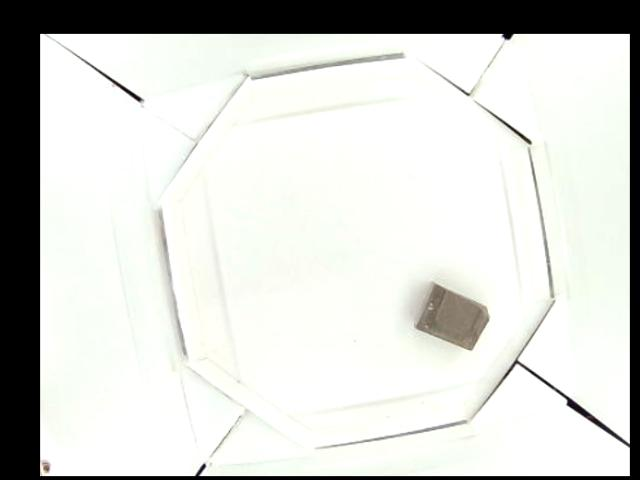China: (416, 284, 492, 350)
